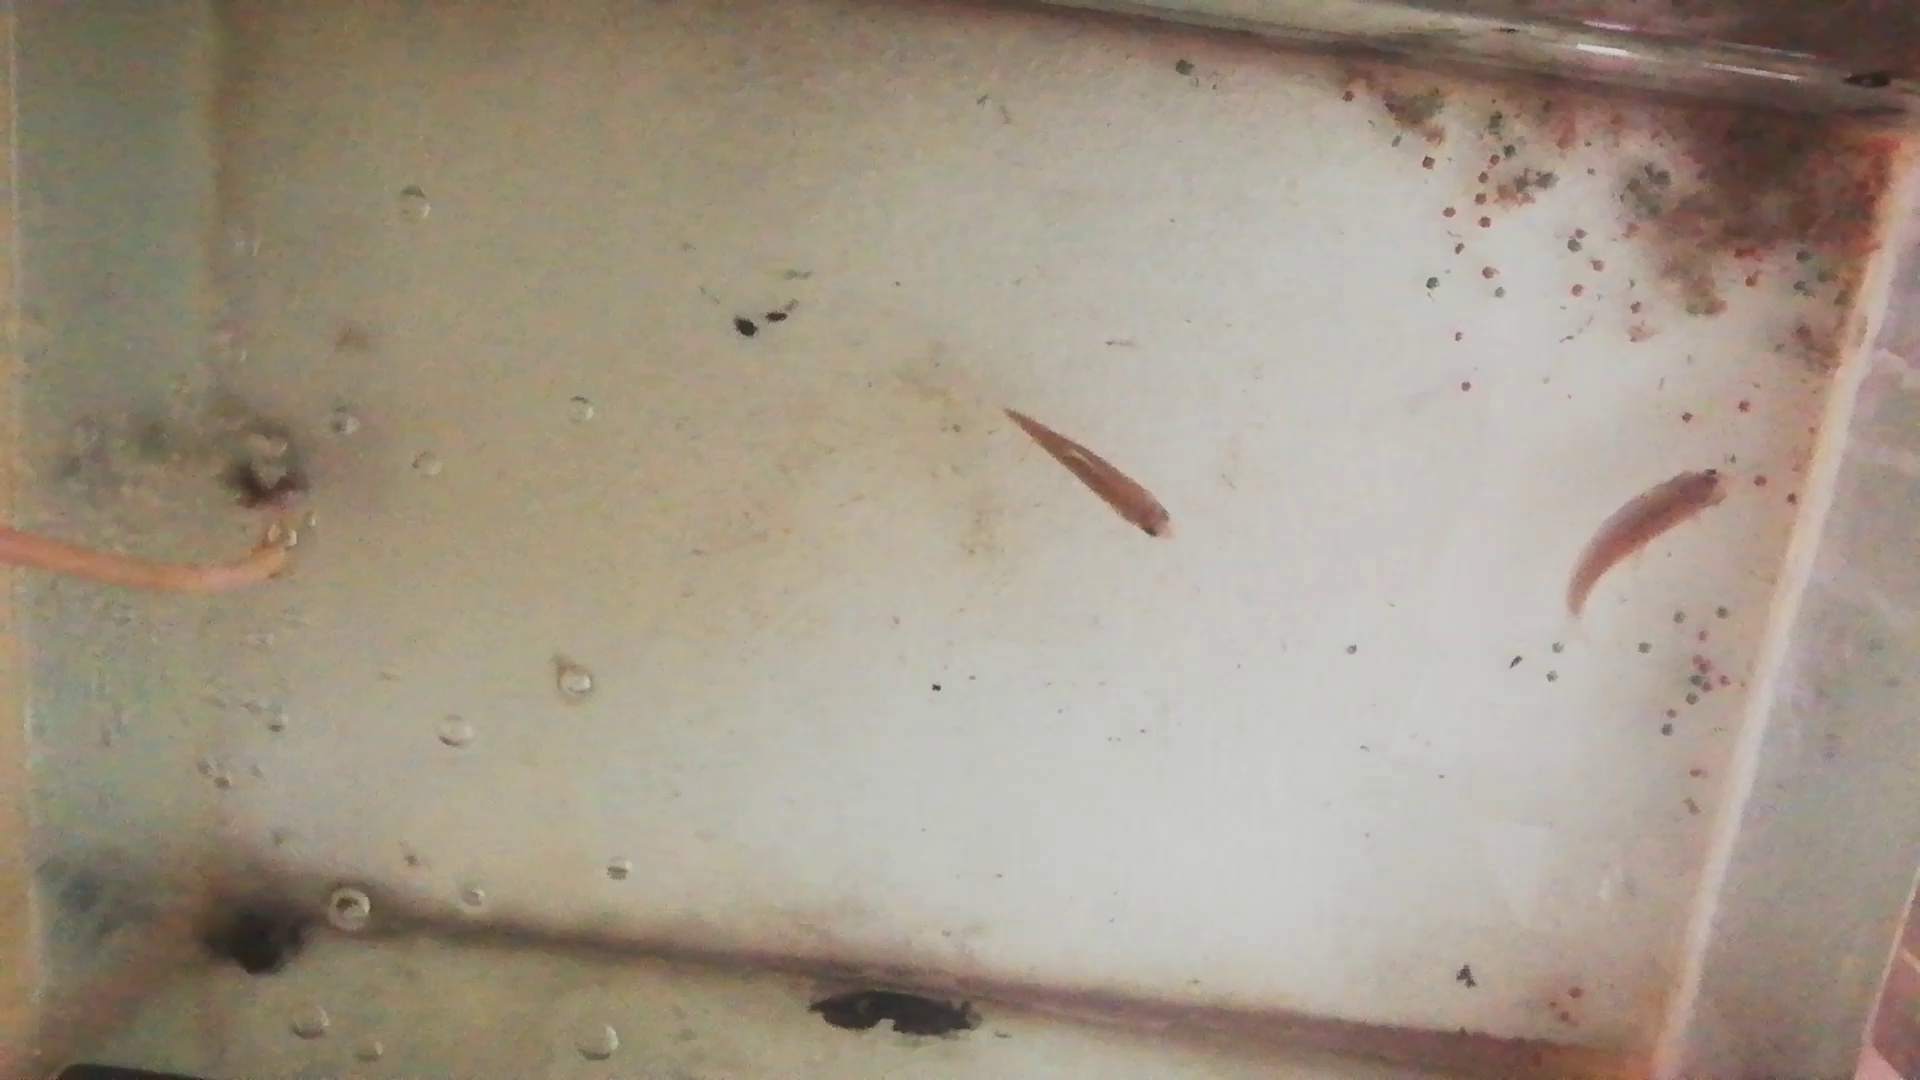fish: (1569, 469, 1731, 618), (1004, 407, 1178, 543)
